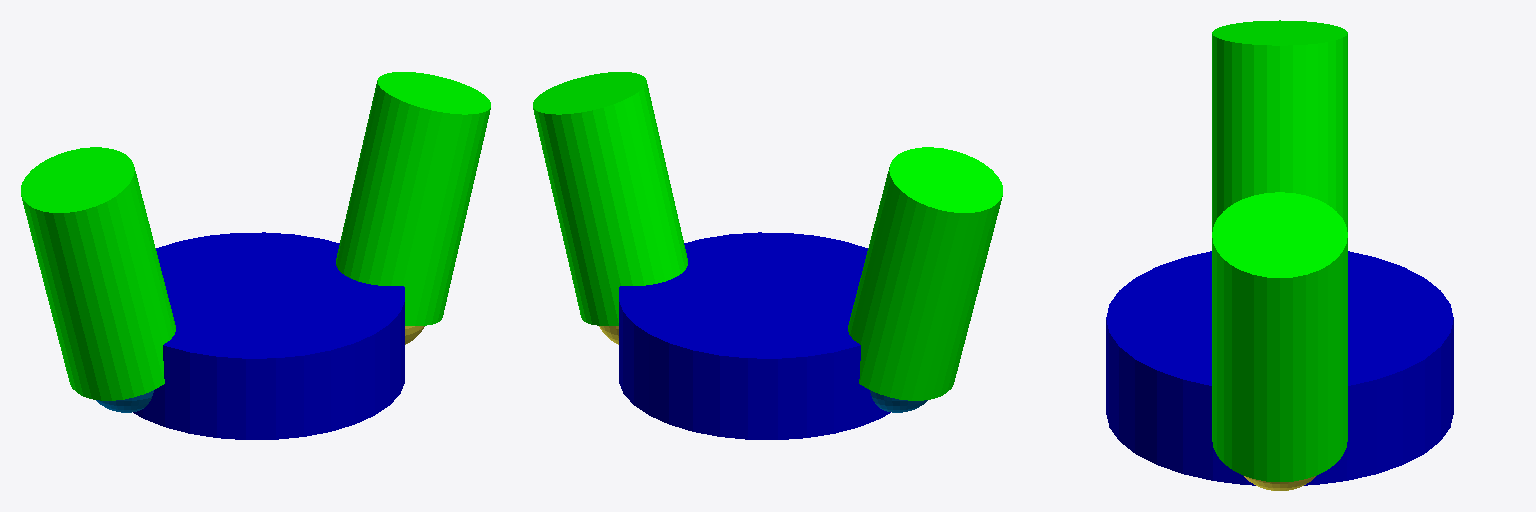
URDF robot description (gripper_2f_1j):
<?xml version='1.0' encoding='UTF-8'?>
<robot name="gripper_2f_1j">
  <link name="palm">
    <inertial>
      <origin xyz="0.0 0.0 0.0" rpy="0.0 -0.0 0.0"/>
      <mass value="1.0"/>
      <inertia ixx="1.0" ixy="0.0" ixz="0.0" iyy="1.0" iyz="0.0" izz="1.0"/>
    </inertial>
    <visual>
      <geometry>
        <cylinder radius="0.05" length="0.03"/>
      </geometry>
      <material name="blue"/>
      <origin xyz="0.0 0.0 0.0" rpy="0.0 -0.0 0.0"/>
    </visual>
    <collision>
      <geometry>
        <cylinder radius="0.05" length="0.03"/>
      </geometry>
      <origin xyz="0.0 0.0 0.0" rpy="0.0 0.0 0.0"/>
    </collision>
  </link>
  <link name="f11">
    <inertial>
      <origin xyz="0.0 0.0 0.0" rpy="0.0 -0.0 0.0"/>
      <mass value="1.0"/>
      <inertia ixx="1.0" ixy="0.0" ixz="0.0" iyy="1.0" iyz="0.0" izz="1.0"/>
    </inertial>
    <visual>
      <geometry>
        <cylinder radius="0.019533973181831442" length="0.07588774160005443"/>
      </geometry>
      <material name="green"/>
      <origin xyz="0.0 0.0 0.037943870800027216" rpy="0.0 -0.0 0.0"/>
    </visual>
    <collision>
      <geometry>
        <cylinder radius="0.019533973181831442" length="0.07588774160005443"/>
      </geometry>
      <origin xyz="0.0 0.0 0.05" rpy="0.0 0.0 0.0"/>
    </collision>
  </link>
  <link name="f21">
    <inertial>
      <origin xyz="0.0 0.0 0.0" rpy="0.0 -0.0 0.0"/>
      <mass value="1.0"/>
      <inertia ixx="1.0" ixy="0.0" ixz="0.0" iyy="1.0" iyz="0.0" izz="1.0"/>
    </inertial>
    <visual>
      <geometry>
        <cylinder radius="0.019533973181831442" length="0.07588774160005443"/>
      </geometry>
      <material name="green"/>
      <origin xyz="0.0 0.0 0.037943870800027216" rpy="0.0 -0.0 0.0"/>
    </visual>
    <collision>
      <geometry>
        <cylinder radius="0.019533973181831442" length="0.07588774160005443"/>
      </geometry>
      <origin xyz="0.0 0.0 0.05" rpy="0.0 0.0 0.0"/>
    </collision>
  </link>
  <link name="f11_base">
    <inertial>
      <origin xyz="0.0 0.0 0.0" rpy="0.0 -0.0 0.0"/>
      <mass value="1.0"/>
      <inertia ixx="1.0" ixy="0.0" ixz="0.0" iyy="1.0" iyz="0.0" izz="1.0"/>
    </inertial>
    <visual>
      <geometry>
        <sphere radius="0.015"/>
      </geometry>
      <origin xyz="0.0 0.0 0.0" rpy="0.0 -0.0 0.0"/>
    </visual>
  </link>
  <link name="f21_base">
    <inertial>
      <origin xyz="0.0 0.0 0.0" rpy="0.0 -0.0 0.0"/>
      <mass value="1.0"/>
      <inertia ixx="1.0" ixy="0.0" ixz="0.0" iyy="1.0" iyz="0.0" izz="1.0"/>
    </inertial>
    <visual>
      <geometry>
        <sphere radius="0.015"/>
      </geometry>
      <origin xyz="0.0 0.0 0.0" rpy="0.0 -0.0 0.0"/>
    </visual>
  </link>
  <joint name="f11_joint" type="revolute">
    <dynamics damping="100.0" friction="1.0"/>
    <limit effort="30.0" velocity="2.0" lower="-0.6" upper="0.25"/>
    <parent link="f11_base"/>
    <child link="f11"/>
    <axis xyz="0. 1. 0."/>
    <origin xyz="0.0 0.0 0.0" rpy="0.0 0.25 0.0"/>
  </joint>
  <joint name="f21_joint" type="revolute">
    <dynamics damping="100.0" friction="1.0"/>
    <limit effort="30.0" velocity="2.0" lower="-0.6" upper="0.25"/>
    <parent link="f21_base"/>
    <child link="f21"/>
    <axis xyz=" 0. -1.  0."/>
    <origin xyz="0.0 0.0 0.0" rpy="0.0 -0.25 0.0"/>
  </joint>
  <joint name="f11_base_joint" type="fixed">
    <parent link="palm"/>
    <child link="f11_base"/>
    <axis xyz="1. 0. 0."/>
    <origin xyz="0.05 0.0 0.0" rpy="0.0 0.0 0.0"/>
  </joint>
  <joint name="f21_base_joint" type="fixed">
    <parent link="palm"/>
    <child link="f21_base"/>
    <axis xyz="1. 0. 0."/>
    <origin xyz="-0.05 -0.0 0.0" rpy="0.0 0.0 0.0"/>
  </joint>
  <material name="blue">
    <color rgba="0.  0.  0.8 1. "/>
  </material>
  <material name="green">
    <color rgba="0. 1. 0. 1."/>
  </material>
</robot>

--- What the picture shows (computed from the rendered views, not written in the file) ---
The picture shows the robot from 3 angles, left to right: view 1: azimuth 30°, elevation 25°; view 2: azimuth 150°, elevation 25°; view 3: azimuth 270°, elevation 25°; orthographic projection.
Model gripper_2f_1j with 5 links and 4 joints (2 revolute, 2 fixed), rooted at palm, posed all joints at 0.
Links seen in each view (by area): view 1: palm, f21, f11, f21_base; view 2: palm, f21, f11, f21_base; view 3: palm, f11, f21.
Link boxes in pixels (x1,y1,x2,y2): palm: (133,232,404,439); f21: (21,147,175,400); f11: (336,72,490,325); f21_base: (96,390,153,412); palm: (619,232,890,439); f21: (848,147,1002,400); f11: (533,72,687,325); f21_base: (870,390,927,412); palm: (1106,251,1453,485); f11: (1212,192,1347,481); f21: (1212,20,1347,231).
Bounding box of the posed robot: 0.1754 × 0.1 × 0.0934 m (x, y, z).
Geometry: primitives only (box / cylinder / sphere), no mesh files.